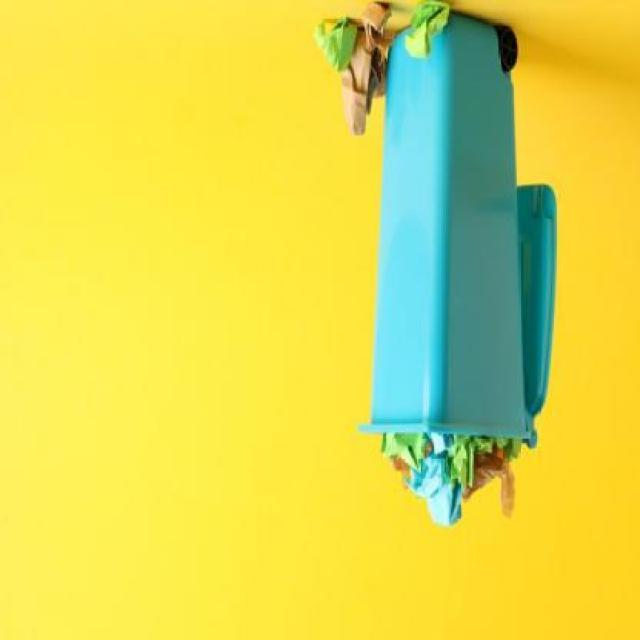garbage container: (347, 2, 564, 459)
